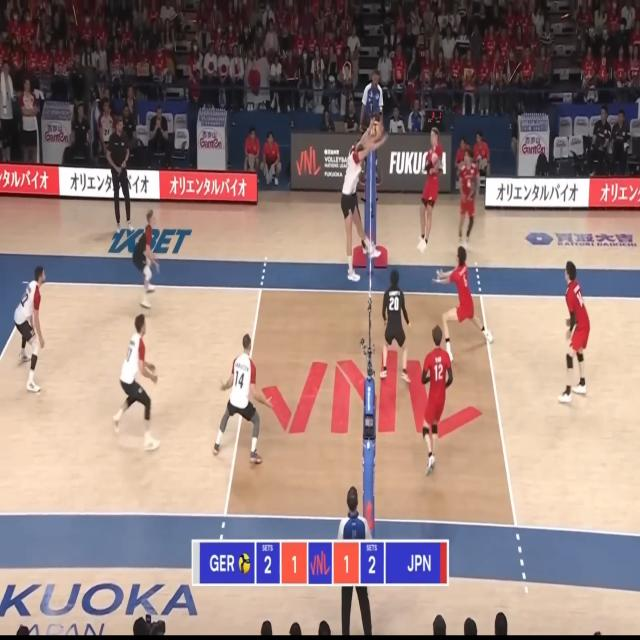ball: (372, 121, 380, 135)
